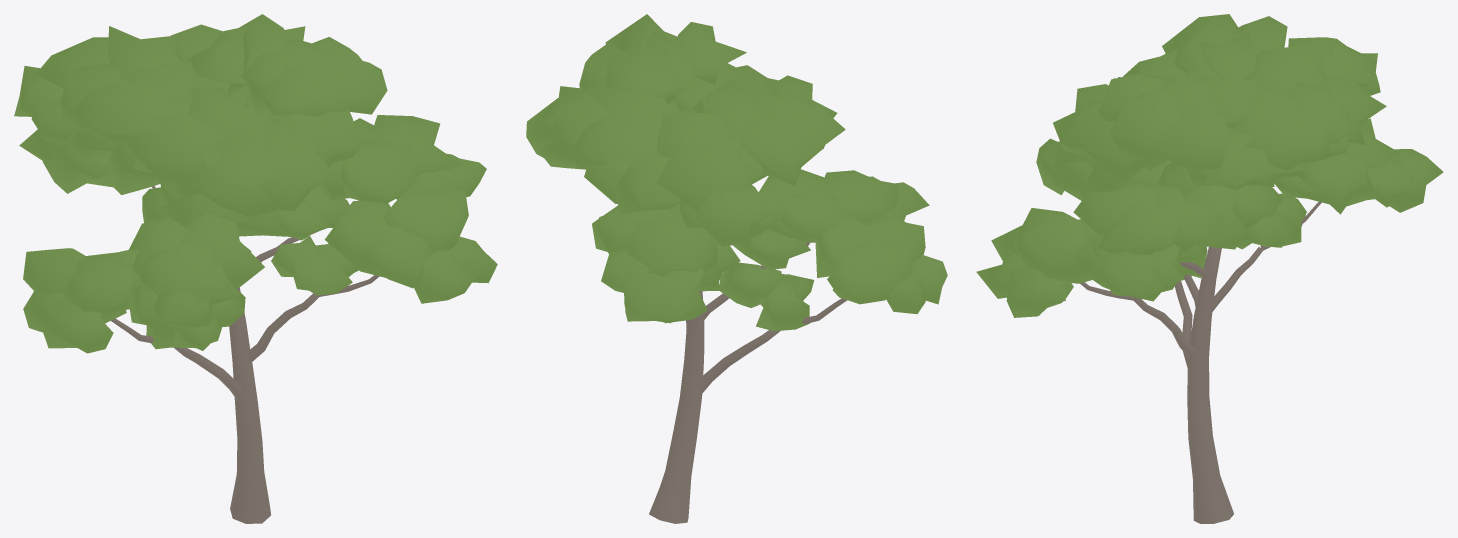
Rendered from Blender_AleppoPine_1.glb.
3 renders of one model, left to right at view 1: azimuth 30°, elevation 25°; view 2: azimuth 150°, elevation 25°; view 3: azimuth 270°, elevation 25°, orthographic. The views are drawn at different scales.
Visible parts, largest first — view 1: Blender_AleppoPine_1; view 2: Blender_AleppoPine_1; view 3: Blender_AleppoPine_1.
Boxes of the visible parts, x1,y1,x2,y2 form: Blender_AleppoPine_1: (14, 14, 497, 523); Blender_AleppoPine_1: (526, 14, 947, 523); Blender_AleppoPine_1: (976, 14, 1443, 523).
Bounding box in the file's own units: 12.77 × 13.28 × 12.41.
